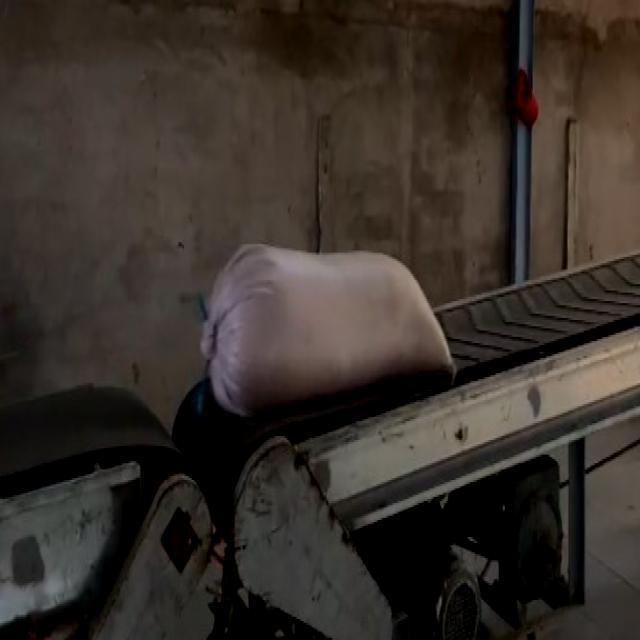gunny_bag: (200, 244, 453, 416)
